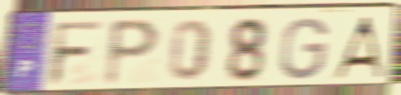0: (168, 18, 215, 86)
8: (224, 16, 271, 84)
A: (329, 14, 387, 80)
F: (45, 19, 107, 89)
G: (277, 16, 331, 82)
P: (101, 17, 163, 89)
